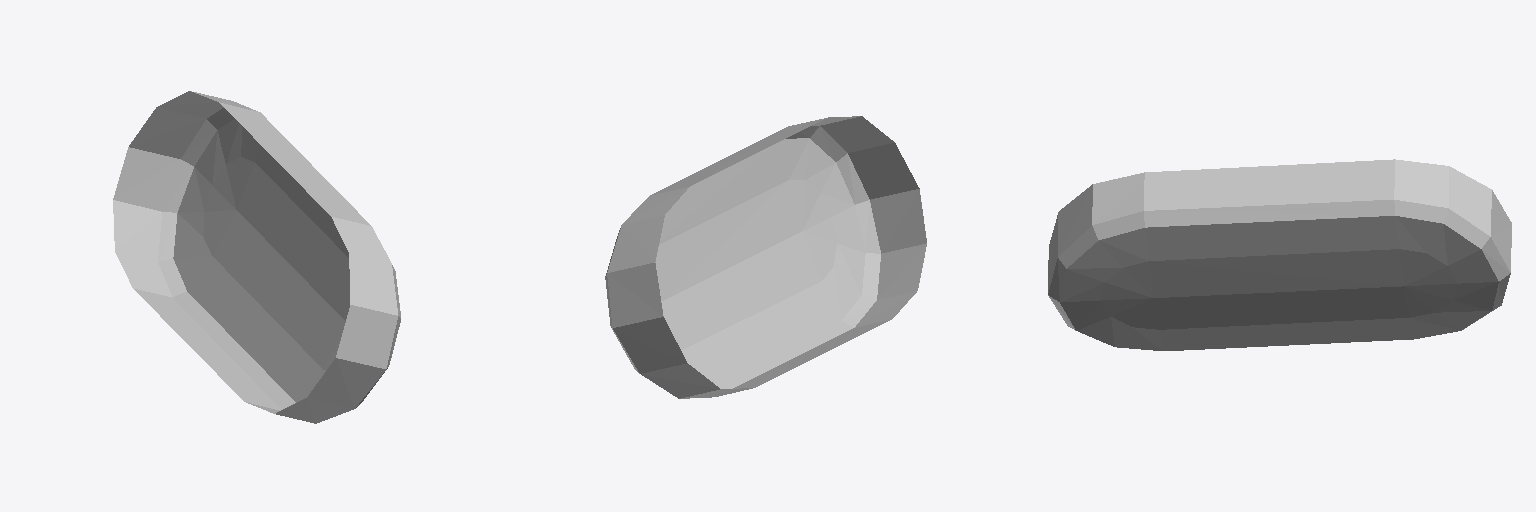
Rendered from r_grip.obj.
The picture shows the model from 3 angles: view 1: azimuth 30°, elevation 25°; view 2: azimuth 150°, elevation 25°; view 3: azimuth 270°, elevation 25°; orthographic projection.
Parts seen in each view (by area): view 1: r_grip1:group1 r_grip1:r_gripper r_grip1:polySurface1; view 2: r_grip1:group1 r_grip1:r_gripper r_grip1:polySurface1; view 3: r_grip1:group1 r_grip1:r_gripper r_grip1:polySurface1.
Part boxes in pixels (x1,y1,x2,y2): r_grip1:group1 r_grip1:r_gripper r_grip1:polySurface1: (113,91,400,423); r_grip1:group1 r_grip1:r_gripper r_grip1:polySurface1: (605,116,926,398); r_grip1:group1 r_grip1:r_gripper r_grip1:polySurface1: (1048,159,1511,350).
Size of the model in its own units: 0.01 by 0.015 by 0.0296.